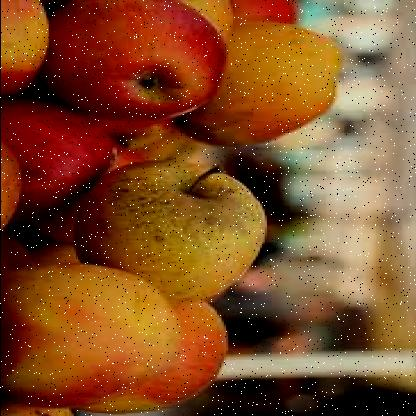apple: (7, 270, 177, 400), (50, 5, 207, 124), (198, 27, 352, 142), (2, 108, 109, 204)
damaged_apple: (68, 162, 268, 296)
